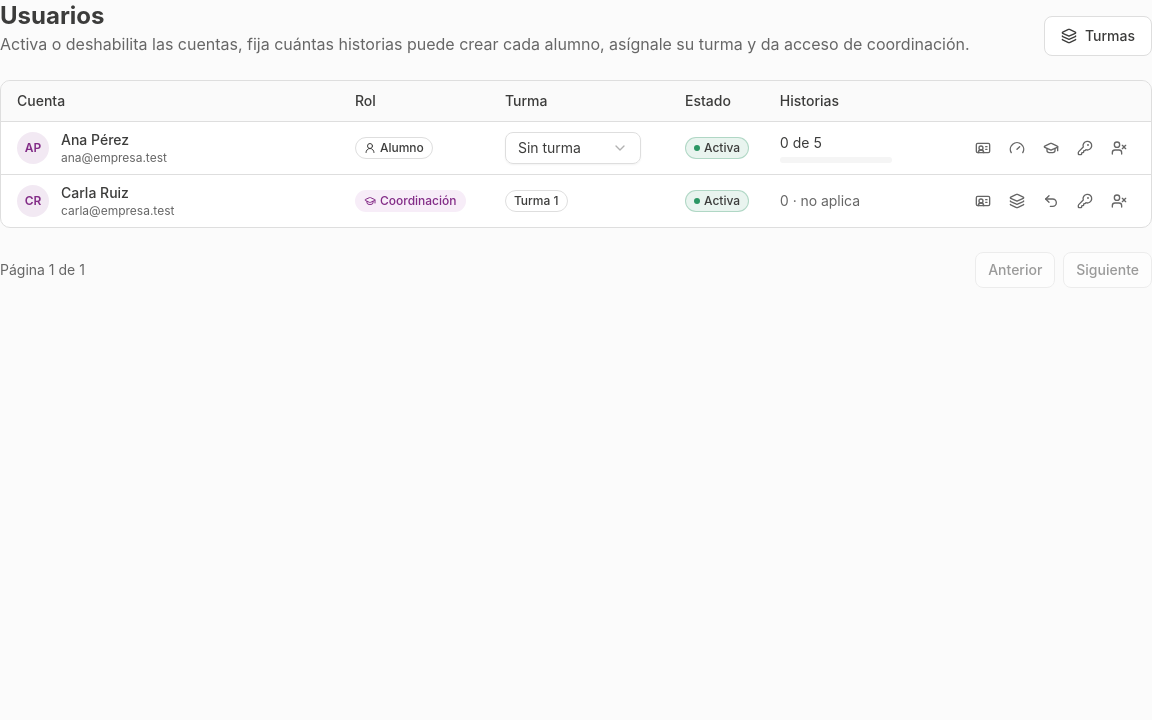
Test: users — turmas y coordinación en la pantalla Usuarios › Restablecer contraseña: cancelar no genera nada
The width and height of the screenshot is (1152, 720).
Expected: the row "AP Ana Pérez ana@empresa.test Alumno Sin turma Activa 0 de 5" is shown, [1, 121, 1151, 174]
Click the button named "Restablecer la contraseña de Ana Pérez". click: click(1085, 148)
box: [1069, 132, 1101, 164]
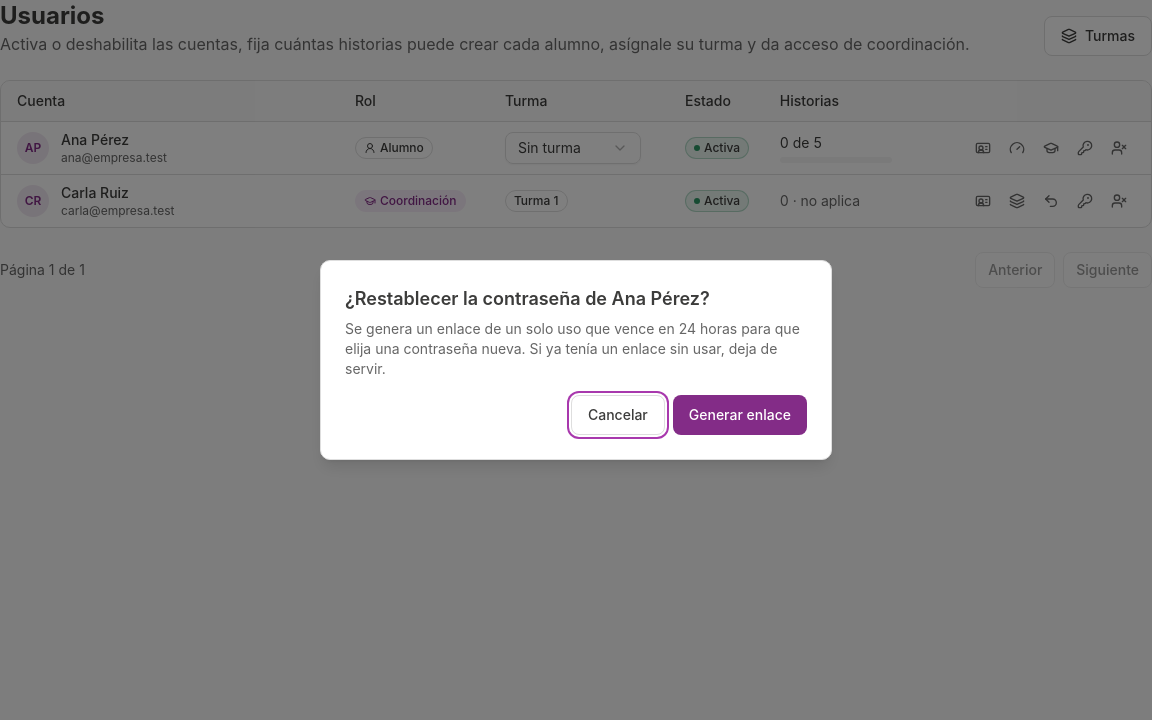
Click the button "Cancelar". click: click(618, 415)
box: [571, 395, 665, 435]
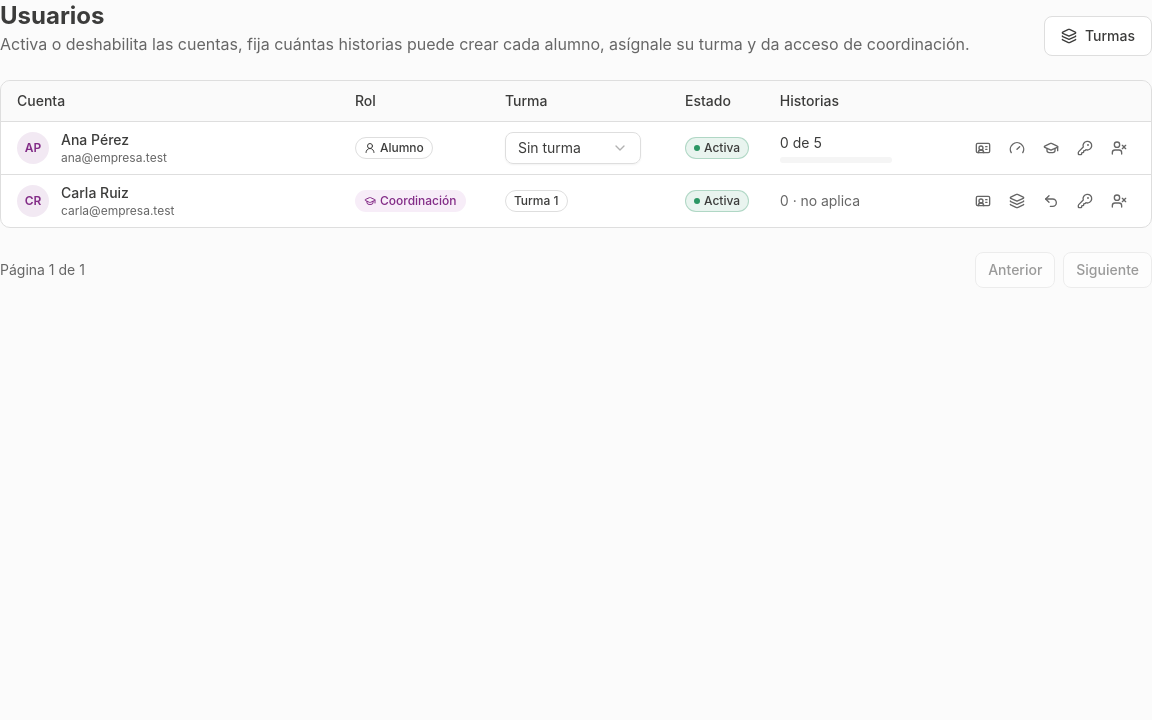
Expected: the dialog is gone
